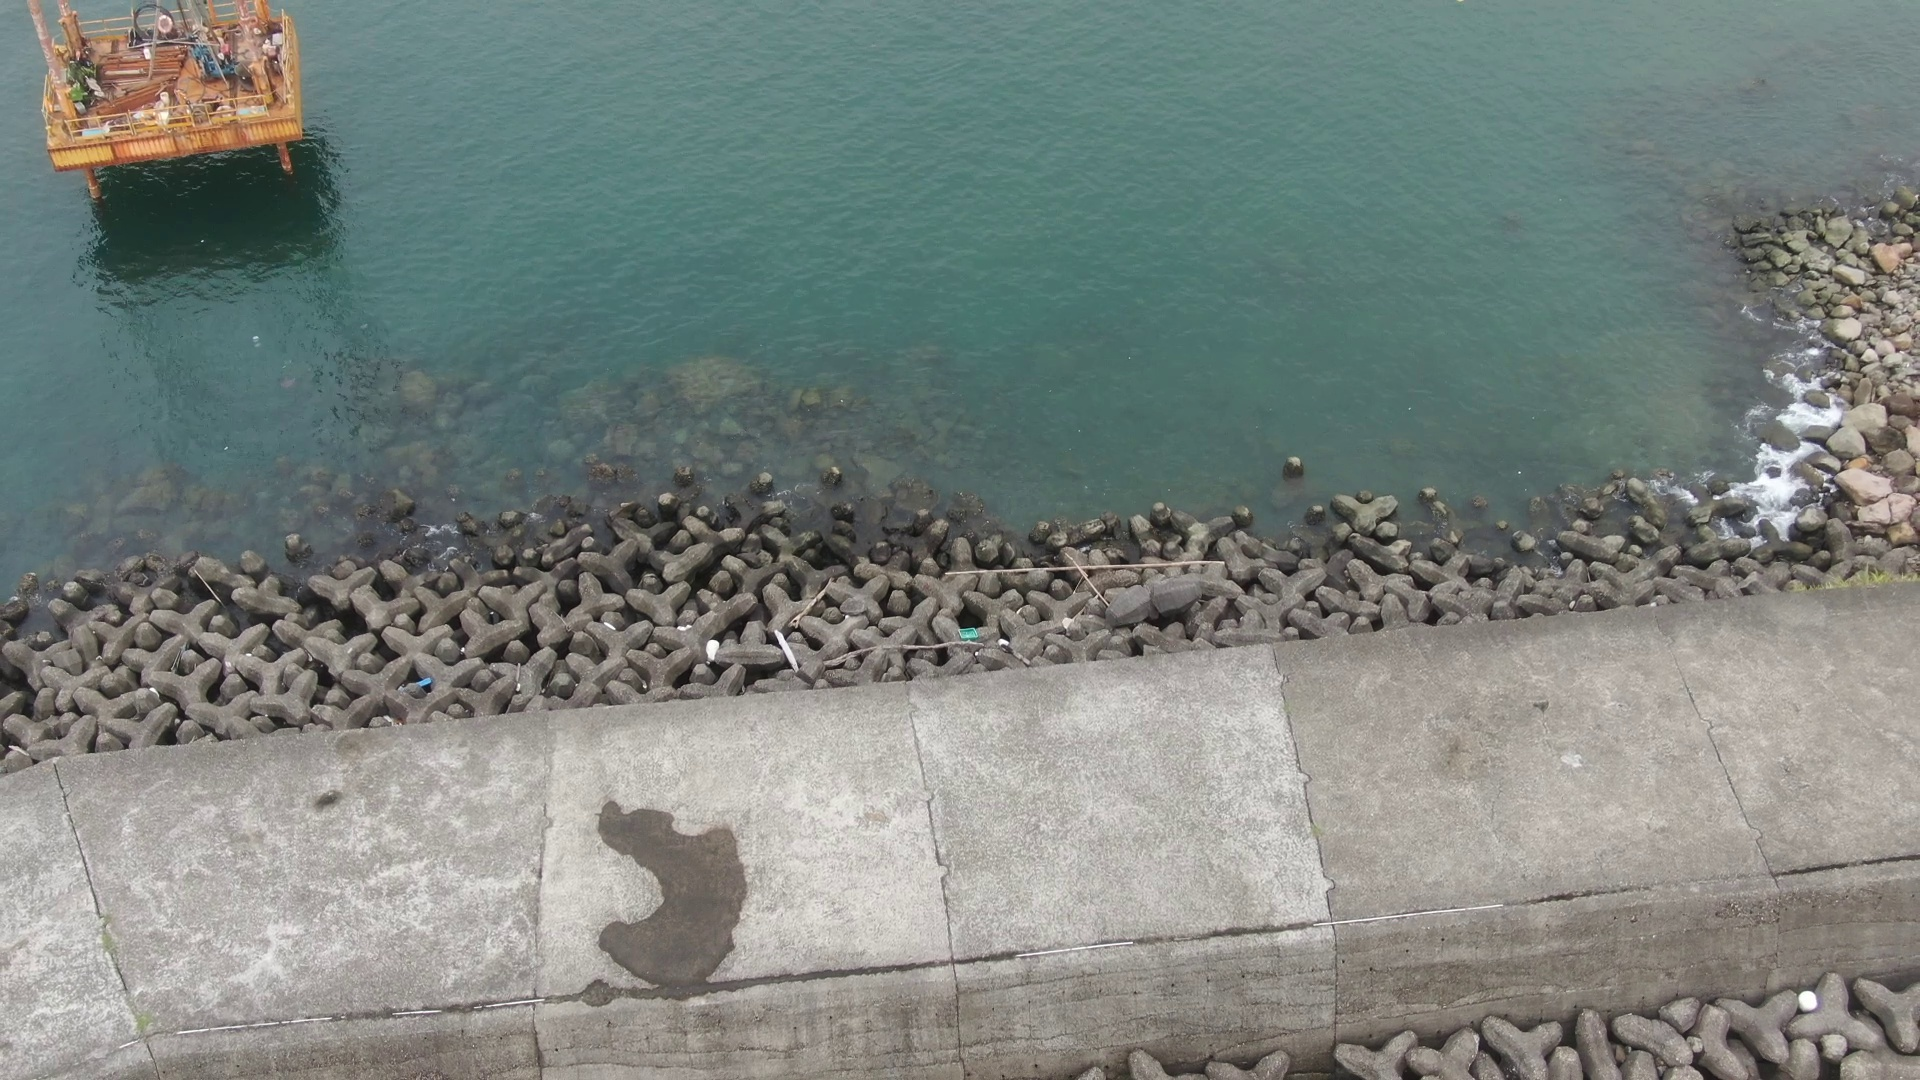garbage: (1791, 976, 1826, 1027), (700, 626, 725, 673), (955, 618, 980, 644), (409, 674, 440, 692)
